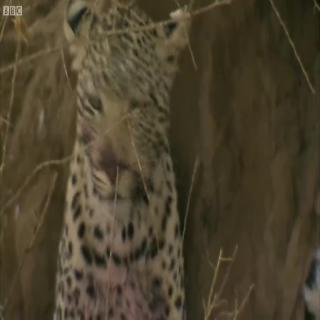Leopard: (44, 15, 197, 320)
